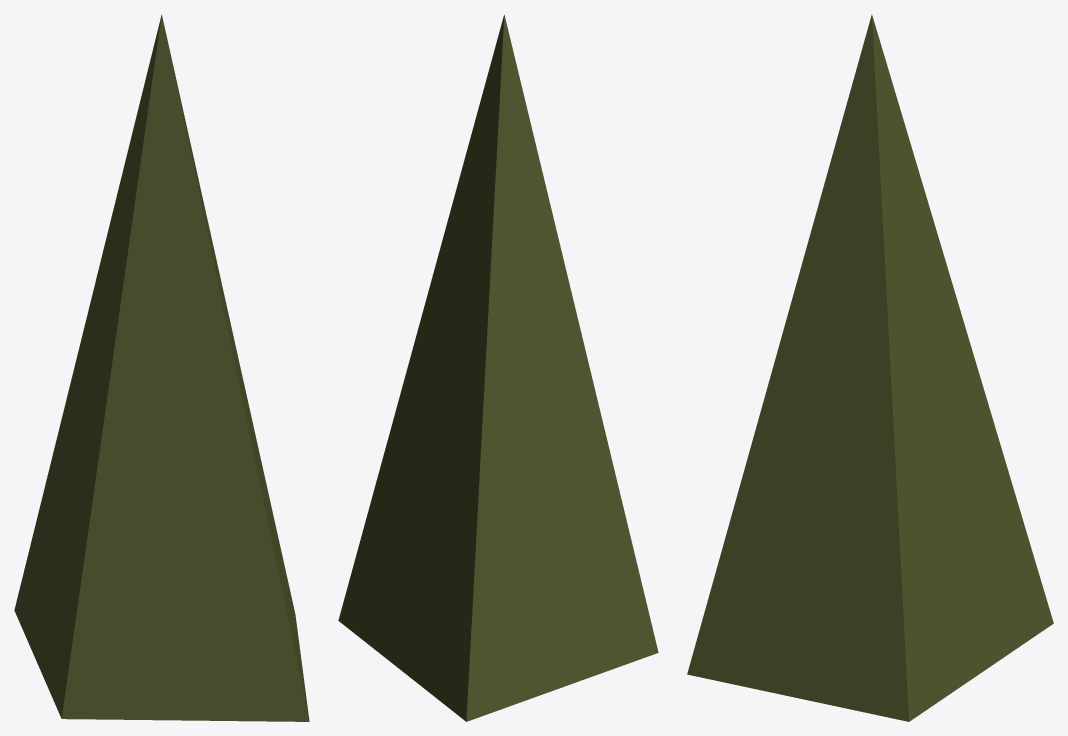
The model's file is TreeAutumn4_Alt4.fbx.
The picture shows the model from 3 angles, left to right: view 1: azimuth 30°, elevation 25°; view 2: azimuth 150°, elevation 25°; view 3: azimuth 270°, elevation 25°; orthographic projection. The views are drawn at different scales.
Parts seen in each view (by area): view 1: TreeAutumn4_Alt4; view 2: TreeAutumn4_Alt4; view 3: TreeAutumn4_Alt4.
Part boxes in pixels (x1,y1,x2,y2): TreeAutumn4_Alt4: (14, 14, 309, 721); TreeAutumn4_Alt4: (338, 14, 658, 721); TreeAutumn4_Alt4: (687, 14, 1053, 721).
Size of the model in its own units: 1.26 by 2.78 by 1.46.
